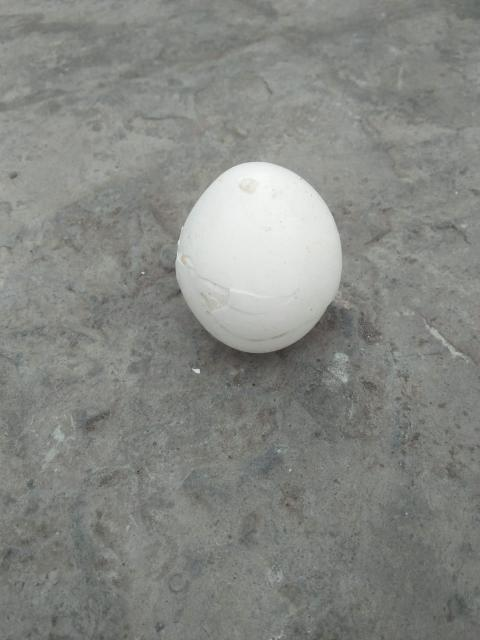Roto: (174, 160, 343, 354)
